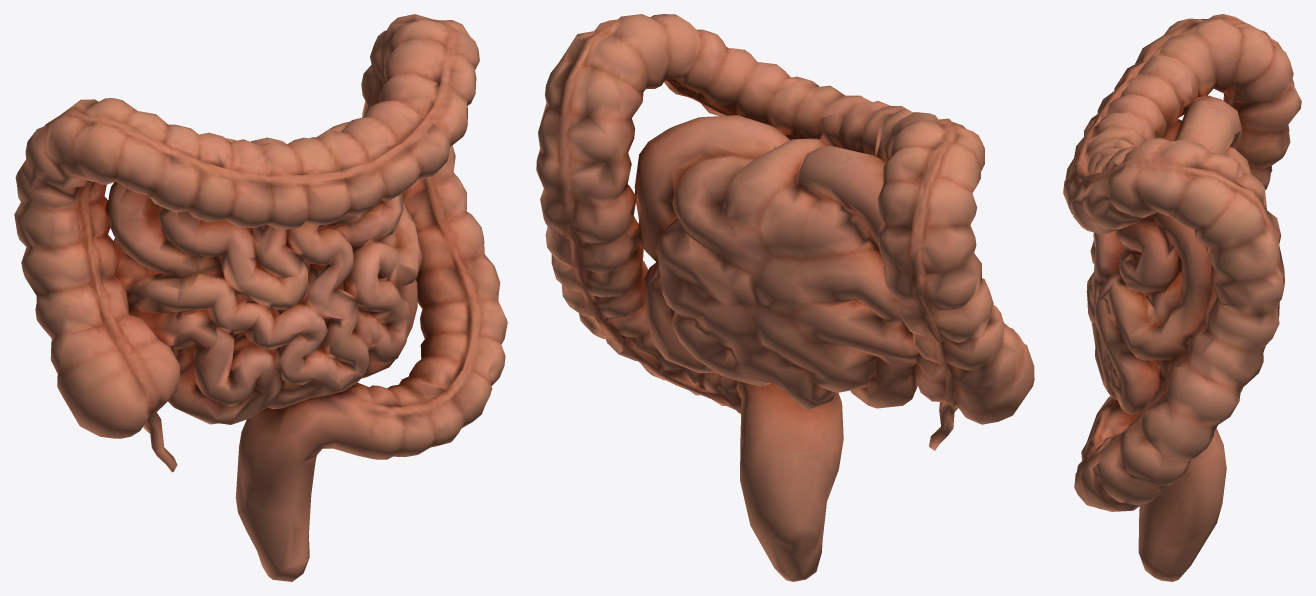
The model's file is intestine-lod2.glb.
The picture shows the model from 3 angles, left to right: view 1: azimuth 30°, elevation 25°; view 2: azimuth 150°, elevation 25°; view 3: azimuth 270°, elevation 25°; orthographic projection. The views are drawn at different scales.
Parts seen in each view (by area): view 1: tripo_node_62b379d0-ce68-4c4f-9391-eb1f11136f30; view 2: tripo_node_62b379d0-ce68-4c4f-9391-eb1f11136f30; view 3: tripo_node_62b379d0-ce68-4c4f-9391-eb1f11136f30.
Part boxes in pixels (<box>): tripo_node_62b379d0-ce68-4c4f-9391-eb1f11136f30: <box>14,14,507,581</box>; tripo_node_62b379d0-ce68-4c4f-9391-eb1f11136f30: <box>536,14,1034,581</box>; tripo_node_62b379d0-ce68-4c4f-9391-eb1f11136f30: <box>1063,14,1301,581</box>.
Size of the model in its own units: 0.885 by 0.999 by 0.4261.
Materials: 1 (1 with a texture image).
